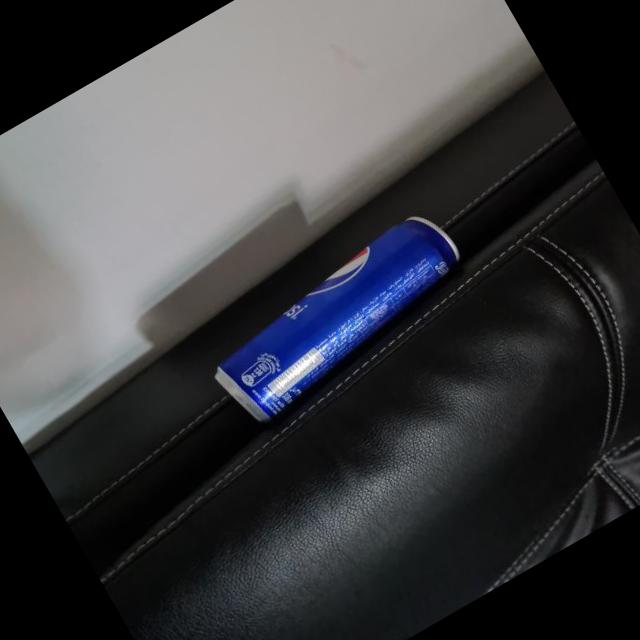Kaleng: (191, 200, 487, 436)
